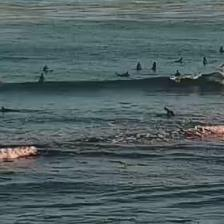surfer: (0, 106, 21, 113), (164, 107, 175, 117), (114, 72, 130, 77), (39, 73, 45, 83), (151, 61, 157, 71), (175, 57, 184, 63), (174, 70, 181, 77), (136, 62, 142, 70), (220, 61, 223, 76), (202, 56, 207, 64), (43, 64, 49, 70), (219, 46, 223, 53)
